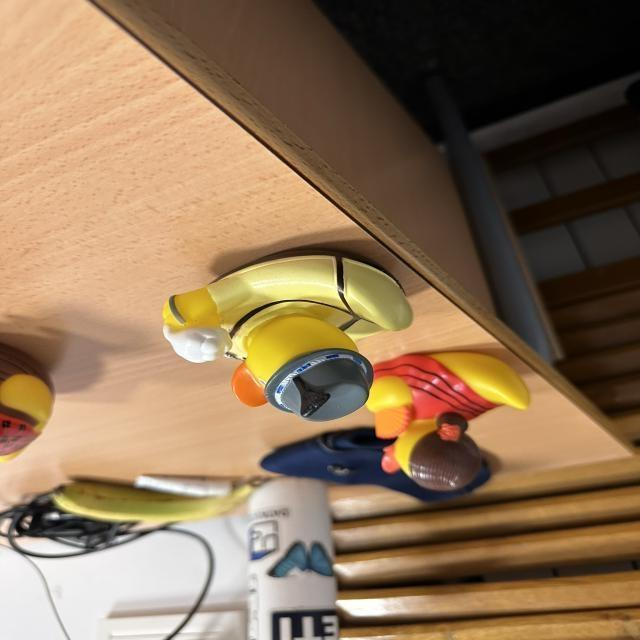rubber-duck: (162, 253, 411, 419), (366, 351, 528, 495)
